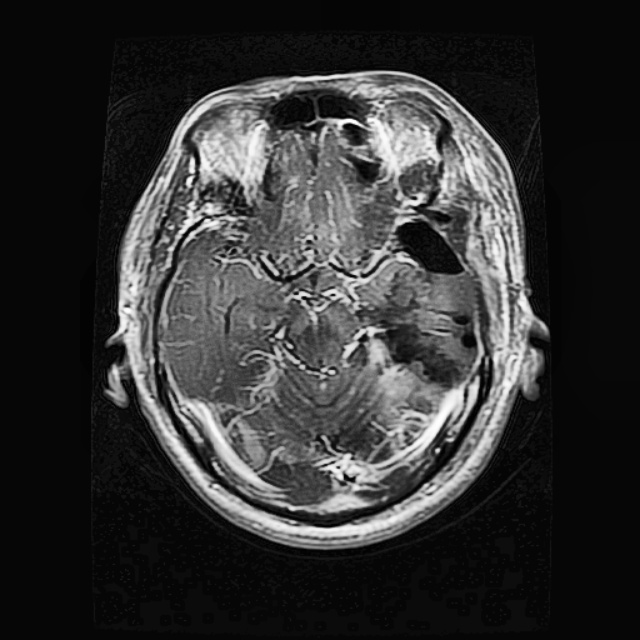Glioma: (363, 159, 492, 388)
